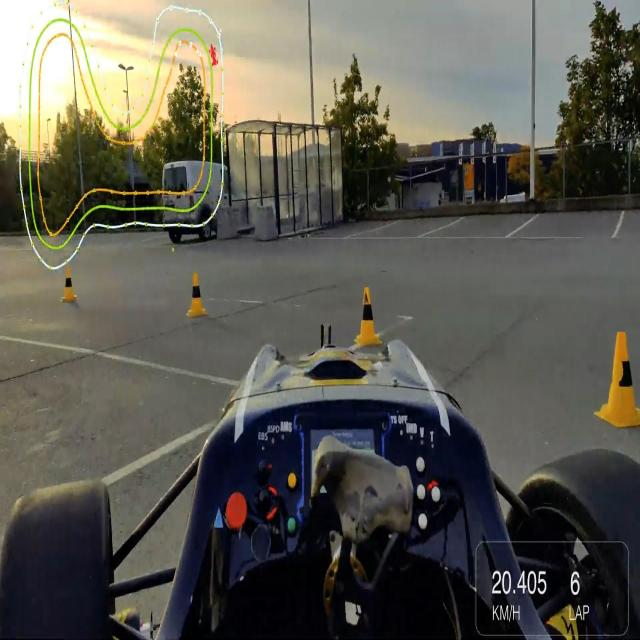yellow_cone: (595, 330, 640, 430), (354, 284, 382, 347), (186, 271, 208, 318), (61, 266, 76, 304)
